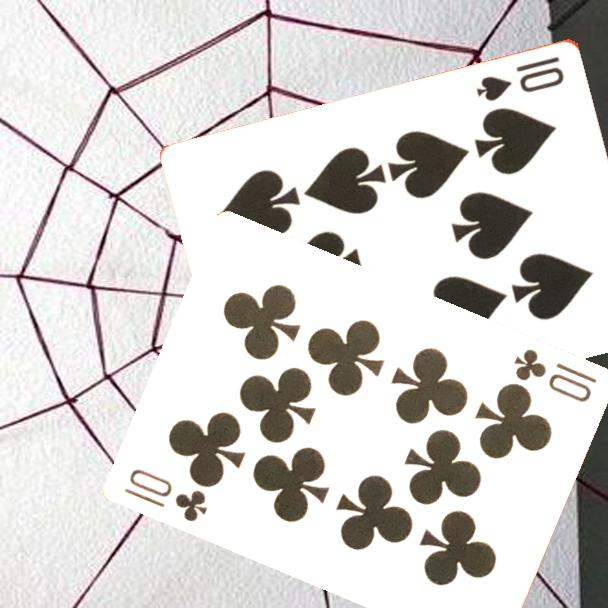c10: (510, 345, 600, 406), (121, 465, 211, 525)
s10: (473, 52, 568, 104)
